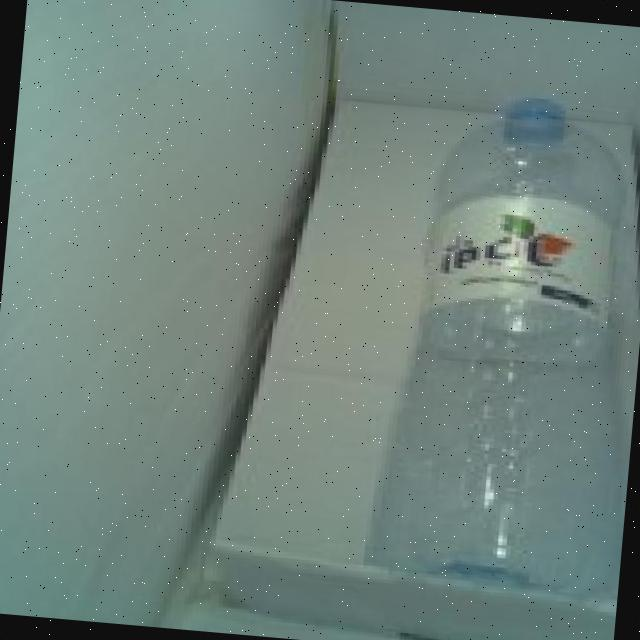bottle: (336, 64, 640, 628)
label: (406, 192, 618, 328)
